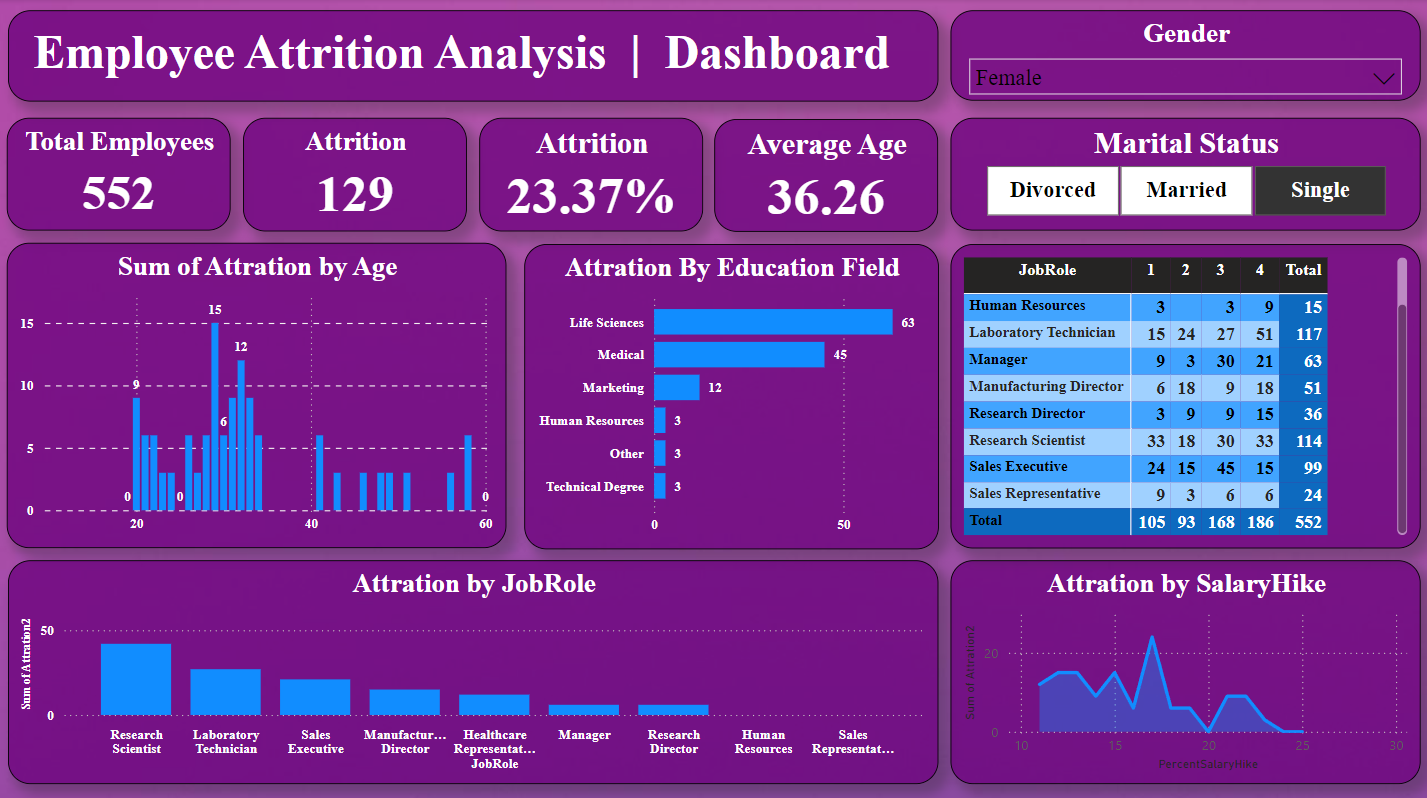

The page's visual inventory and layout, read from the dashboard file:
{"tool":"powerbi","page":{"name":"Page 1","canvas":[1280,720],"ordinal":0},"visuals":[{"type":"card","title":"Total Employees","fields":{"Values":["Sum(Attrition data.EmployeeCount)"]},"box":[8.1,105.8,200,101.2],"z":0},{"type":"card","title":"Attrition","fields":{"Values":["Sum(Attrition data.Attration2)"]},"box":[218.6,105.7,200,101.4],"z":1000},{"type":"card","title":"Attrition","fields":{"Values":["Attrition data.Attrition Percentage"]},"box":[430,105.7,200,101.4],"z":2000},{"type":"card","title":"Average Age","fields":{"Values":["Avg(Attrition data.Age)"]},"box":[640,106.7,200,101.1],"z":3000},{"type":"clusteredBarChart","title":"Attration By Education Field","fields":{"Category":["Attrition data.EducationField"],"Y":["Sum(Attrition data.Attration2)"]},"box":[470,218.6,370,272.9],"z":4000},{"type":"columnChart","title":"Sum of Attration by Age","fields":{"Category":["Attrition data.Age"],"Y":["Sum(Attrition data.Attration2)"]},"box":[8.2,218.2,446.5,272.9],"z":5000},{"type":"textbox","box":[8.6,10,831.4,81.4],"z":6000},{"type":"columnChart","title":"Attration by JobRole","fields":{"Y":["Sum(Attrition data.Attration2)"],"Category":["Attrition data.JobRole"]},"box":[8.9,501.1,831.1,200],"z":7000},{"type":"areaChart","title":"Attration by SalaryHike","fields":{"Category":["Attrition data.PercentSalaryHike"],"Y":["Sum(Attrition data.Attration2)"]},"box":[851.1,501.1,420,200],"z":8000},{"type":"pivotTable","fields":{"Rows":["Attrition data.JobRole"],"Columns":["Attrition data.JobSatisfaction"],"Values":["Sum(Attrition data.EmployeeCount)"]},"box":[851.1,218.9,420,272.2],"z":9000},{"type":"slicer","title":"Gender","fields":{"Values":["Attrition data.Gender"]},"box":[851.1,10,420,81.1],"z":10000},{"type":"slicer","title":"Marital Status","fields":{"Values":["Attrition data.MaritalStatus"]},"box":[851.1,105.6,420,101.1],"z":11000}]}

Visuals, with their boxes in screenshot pixels (x1, y1, x2, y2), scaled from the page's 1280x720 canvas onto the 1427x798 screenshot:
"Total Employees" card: bbox=[9, 117, 232, 229]
"Attrition" card: bbox=[244, 117, 467, 230]
"Attrition" card: bbox=[479, 117, 702, 230]
"Average Age" card: bbox=[714, 118, 936, 230]
"Attration By Education Field" clusteredBarChart: bbox=[524, 242, 936, 545]
"Sum of Attration by Age" columnChart: bbox=[9, 242, 507, 544]
textbox: bbox=[10, 11, 936, 101]
"Attration by JobRole" columnChart: bbox=[10, 555, 936, 777]
"Attration by SalaryHike" areaChart: bbox=[949, 555, 1417, 777]
pivotTable - Attrition data.JobRole x Attrition data.JobSatisfaction: bbox=[949, 243, 1417, 544]
"Gender" slicer: bbox=[949, 11, 1417, 101]
"Marital Status" slicer: bbox=[949, 117, 1417, 229]
